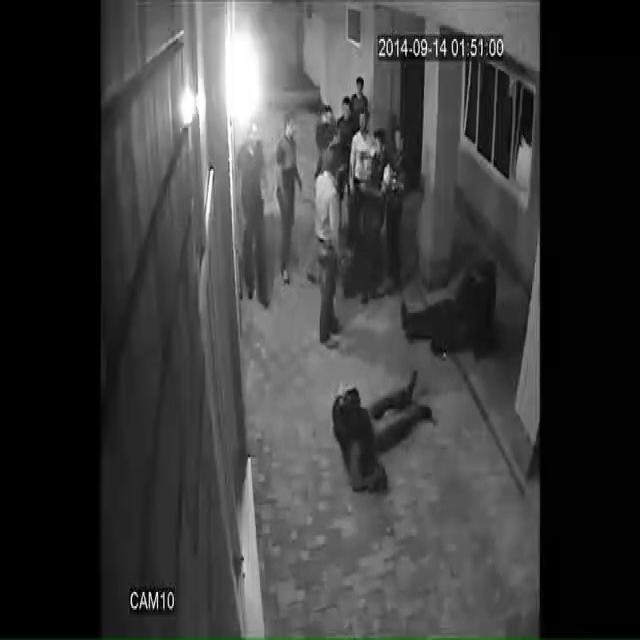fight: (358, 126, 389, 292)
